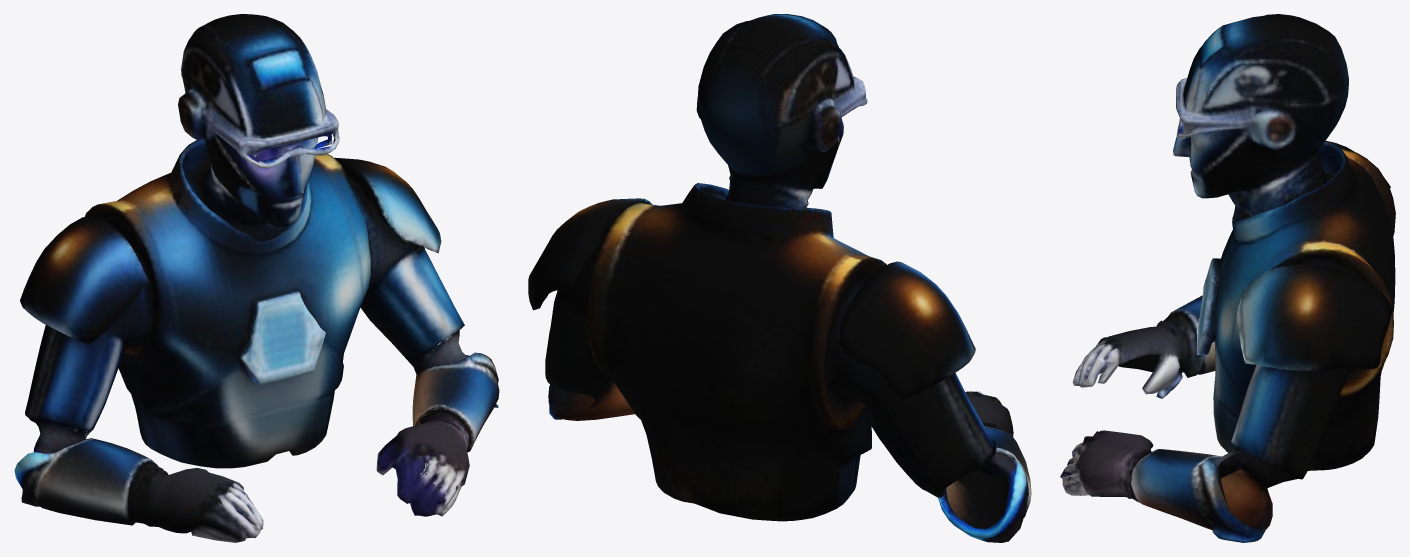
Rendered from modello.glb.
3 renders of one model, left to right at view 1: azimuth 30°, elevation 25°; view 2: azimuth 150°, elevation 25°; view 3: azimuth 270°, elevation 25°, orthographic. The views are drawn at different scales.
Visible parts, largest first — view 1: agente; view 2: agente; view 3: agente.
Part boxes in pixels (x1=…): agente: x1=14, y1=14, x2=499, y2=542; agente: x1=528, y1=14, x2=1031, y2=542; agente: x1=1060, y1=14, x2=1395, y2=542.
Size of the model in its own units: 1.08 by 1 by 0.7091.
Materials: 1 (1 with a texture image).
